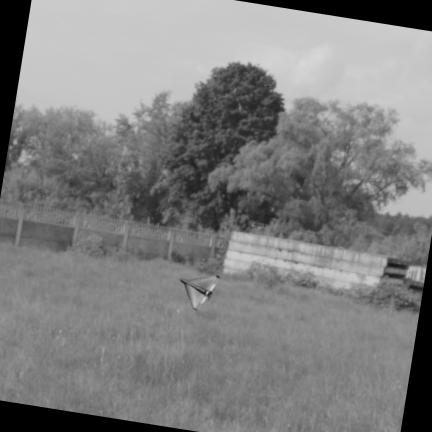Shahed: (181, 277, 219, 309)
